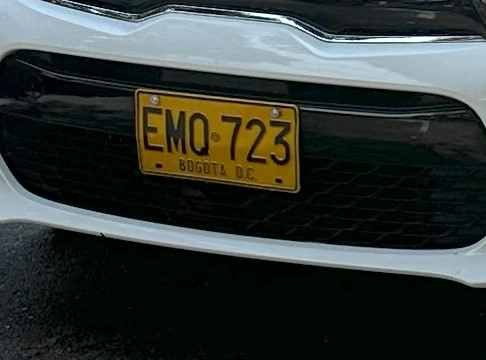number plate: (135, 89, 299, 192)
